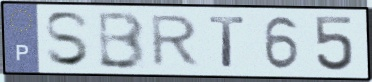5: (312, 15, 356, 73)
6: (261, 14, 302, 72)
B: (96, 9, 148, 71)
R: (149, 13, 203, 69)
S: (42, 9, 93, 69)
T: (207, 14, 249, 69)
